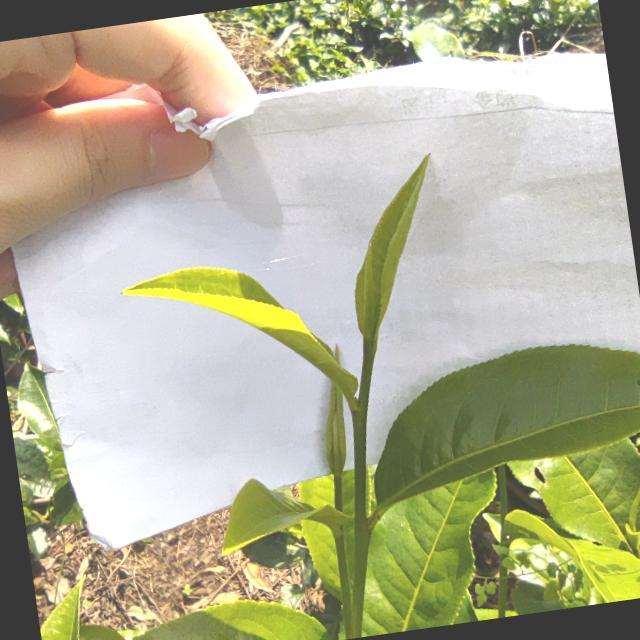Stem: (349, 408, 367, 451)
